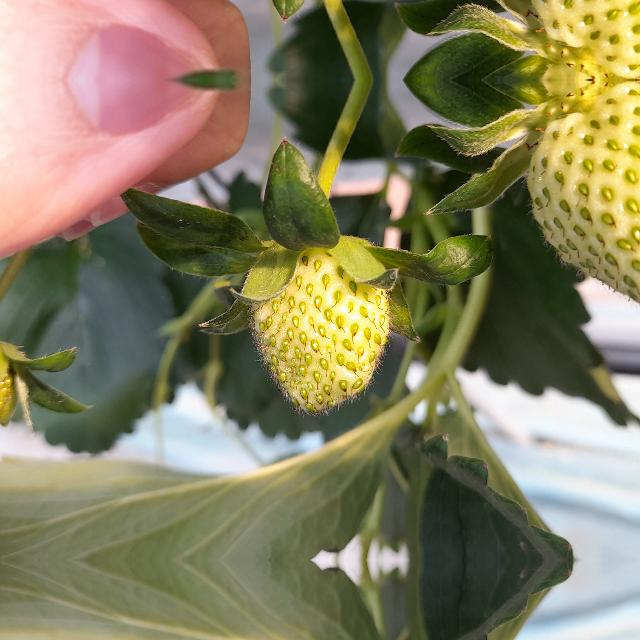Health_25: (519, 80, 639, 314), (246, 248, 396, 418), (519, 0, 639, 80)
